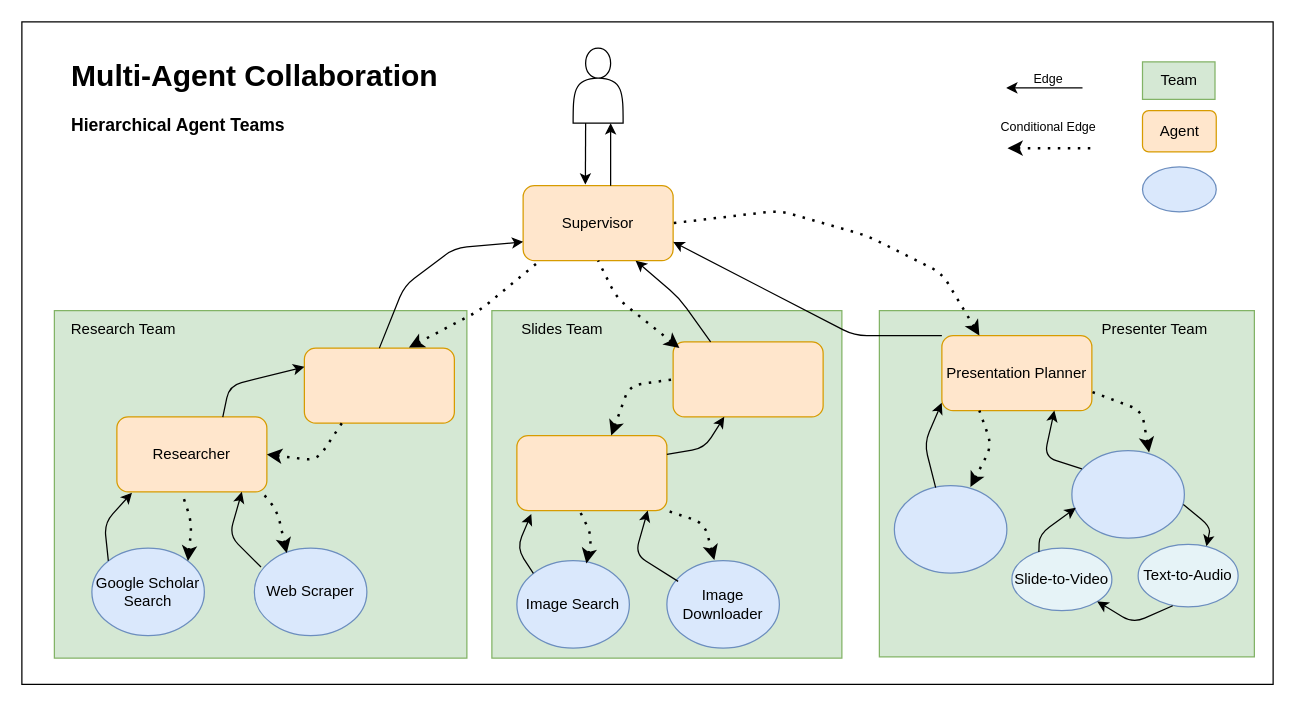
Some shapes in this 1295 by 706 pixel diagram are drawn without their labels. Here are the shapes that lost their labels. From the top down, the centre of each, then its label:
[1178,189]: tool
[378,385]: Writer
[747,379]: Slide Planner
[591,472]: Image Finder
[1127,493]: Create Video Slide
[950,528]: Merge Videos
